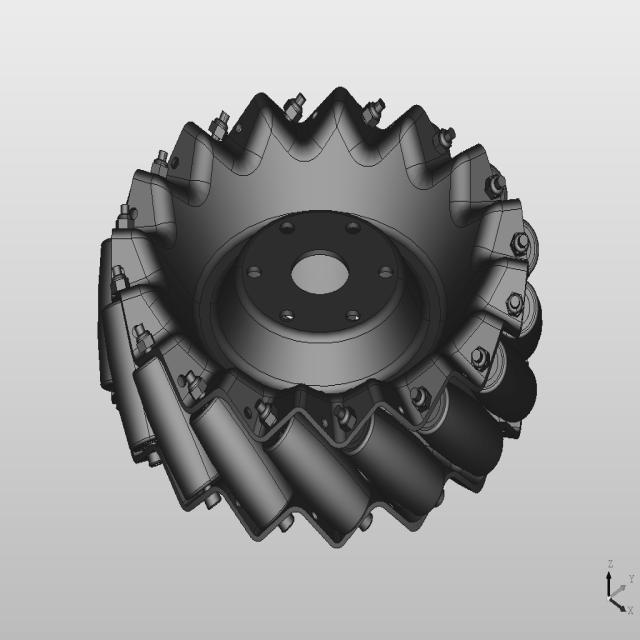screw: (254, 393, 291, 442), (178, 369, 218, 411), (426, 116, 460, 158), (276, 85, 308, 129), (404, 382, 442, 419), (128, 320, 163, 360), (330, 402, 365, 439), (481, 163, 512, 203), (500, 282, 528, 324), (358, 98, 388, 136), (466, 341, 495, 378), (108, 262, 134, 300), (506, 226, 535, 260), (146, 147, 172, 183), (111, 202, 140, 234), (207, 108, 234, 141)
